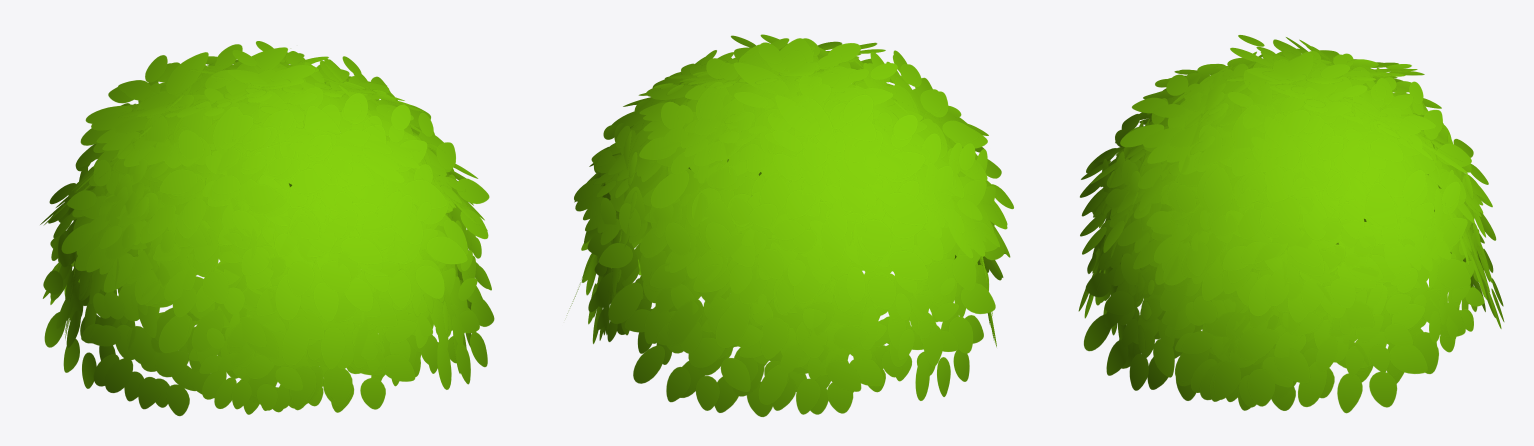
Rendered from bush.glb.
The picture shows the model from 3 angles, left to right: view 1: azimuth 30°, elevation 25°; view 2: azimuth 150°, elevation 25°; view 3: azimuth 270°, elevation 25°; orthographic projection. The views are drawn at different scales.
Parts seen in each view (by area): view 1: Bush; view 2: Bush; view 3: Bush.
Part boxes in pixels (x1,y1,x2,y2): Bush: (40, 41, 494, 416); Bush: (566, 34, 1013, 416); Bush: (1078, 35, 1504, 413).
Bounding box in the file's own units: 1.09 × 0.6916 × 1.05.
1 material, 1 textured.
